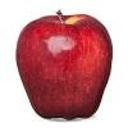apple: (15, 12, 114, 119)
